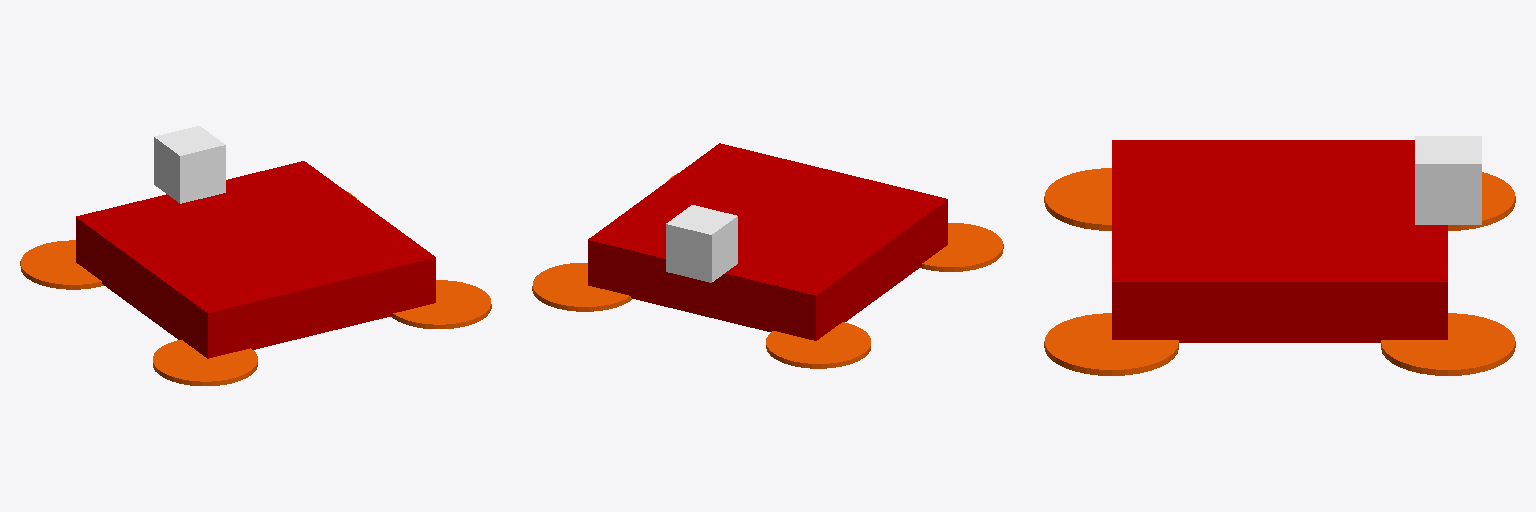
The robot description file, URDF, robot "car":
<?xml version="1.0" ?>
<!-- =================================================================================== -->
<!-- |    This document was autogenerated by xacro from car.xacro                      | -->
<!-- |    EDITING THIS FILE BY HAND IS NOT RECOMMENDED                                 | -->
<!-- =================================================================================== -->
<robot name="car">
  <material name="black">
    <color rgba="0.0 0.0 0.0 1.0"/>
  </material>
  <material name="blue">
    <color rgba="0.0 0.0 0.8 1.0"/>
  </material>
  <material name="green">
    <color rgba="0.0 0.8 0.0 1.0"/>
  </material>
  <material name="grey">
    <color rgba="0.2 0.2 0.2 1.0"/>
  </material>
  <material name="orange">
    <color rgba="1.0 0.4235294117647059 0.0392156862745098 1.0"/>
  </material>
  <material name="brown">
    <color rgba="0.8705882352941177 0.8117647058823529 0.7647058823529411 1.0"/>
  </material>
  <material name="red">
    <color rgba="0.8 0.0 0.0 1.0"/>
  </material>
  <material name="white">
    <color rgba="1.0 1.0 1.0 1.0"/>
  </material>
  <!-- #region XACRO_MACROS -->
  <!-- #endregion -->
  <!-- #endregion -->
  <!-- #endregion -->
  <!-- #endregion -->
  <!-- ROBOT BEGINS HERE -->
  <!-- ROBOT BEGINS HERE -->
  <!-- ROBOT BEGINS HERE -->
  <!-- #region BASE -->
  <link name="base_link">
    <visual>
      <origin rpy="0 0 0" xyz="0 0 0"/>
      <geometry>
        <box size="0.5 0.5 0.1"/>
      </geometry>
      <material name="red"/>
    </visual>
    <collision>
      <origin rpy="0 0 0" xyz="0 0 0"/>
      <geometry>
        <box size="0.5 0.5 0.1"/>
      </geometry>
    </collision>
    <inertial>
      <mass value="0.05"/>
      <inertia ixx="0.0010833333333333333" ixy="0" ixz="0" iyy="0.0020833333333333333" iyz="0" izz="0.0010833333333333333"/>
    </inertial>
  </link>
  <!-- #endregion -->
  <!-- #region WHEELS -->
  <!-- #region FRONT_LEFT_WHEEL -->
  <link name="front_left_wheel">
    <visual>
      <origin rpy="0 0 0" xyz="0.0051 0 0"/>
      <geometry>
        <cylinder length="0.01" radius="0.1"/>
      </geometry>
      <material name="orange"/>
    </visual>
    <collision>
      <origin rpy="0 0 0" xyz="0.0051 0 0"/>
      <geometry>
        <cylinder length="0.01" radius="0.01"/>
      </geometry>
    </collision>
    <inertial>
      <mass value="0.05"/>
      <inertia ixx="0.0001254166666666667" ixy="0" ixz="0" iyy="0.0001254166666666667" iyz="0" izz="0.00025000000000000006"/>
    </inertial>
  </link>
  <joint name="base_to_front_left_wheel" type="fixed">
    <parent link="base_link"/>
    <child link="front_left_wheel"/>
    <!-- joint of child is xyz away from parent -->
    <origin xyz="0.25 0.25 -0.05"/>
    <axis xyz="1 0 0"/>
  </joint>
  <!-- #endregion -->
  <!-- #region FRONT_RIGHT_WHEEL -->
  <link name="front_right_wheel">
    <visual>
      <origin rpy="0 0 0" xyz="0.0051 0 0"/>
      <geometry>
        <cylinder length="0.01" radius="0.1"/>
      </geometry>
      <material name="orange"/>
    </visual>
    <collision>
      <origin rpy="0 0 0" xyz="0.0051 0 0"/>
      <geometry>
        <cylinder length="0.01" radius="0.01"/>
      </geometry>
    </collision>
    <inertial>
      <mass value="0.05"/>
      <inertia ixx="0.0001254166666666667" ixy="0" ixz="0" iyy="0.0001254166666666667" iyz="0" izz="0.00025000000000000006"/>
    </inertial>
  </link>
  <joint name="base_to_front_right_wheel" type="fixed">
    <parent link="base_link"/>
    <child link="front_right_wheel"/>
    <!-- joint of child is xyz away from parent -->
    <origin xyz="0.25 -0.25 -0.05"/>
    <axis xyz="1 0 0"/>
  </joint>
  <!-- #endregion -->
  <!-- #region BACK_LEFT_WHEEL -->
  <link name="back_left_wheel">
    <visual>
      <origin rpy="0 0 0" xyz="-0.0051 0 0"/>
      <geometry>
        <cylinder length="0.01" radius="0.1"/>
      </geometry>
      <material name="orange"/>
    </visual>
    <collision>
      <origin rpy="0 0 0" xyz="-0.0051 0 0"/>
      <geometry>
        <cylinder length="0.01" radius="0.01"/>
      </geometry>
    </collision>
    <inertial>
      <mass value="0.05"/>
      <inertia ixx="0.0001254166666666667" ixy="0" ixz="0" iyy="0.0001254166666666667" iyz="0" izz="0.00025000000000000006"/>
    </inertial>
  </link>
  <joint name="base_to_back_left_wheel" type="fixed">
    <parent link="base_link"/>
    <child link="back_left_wheel"/>
    <!-- joint of child is xyz away from parent -->
    <origin xyz="-0.25 0.25 -0.05"/>
    <axis xyz="1 0 0"/>
  </joint>
  <!-- #endregion -->
  <!-- #region BACK_RIGHT_WHEEL -->
  <link name="back_right_wheel">
    <visual>
      <origin rpy="0 0 0" xyz="-0.0051 0 0"/>
      <geometry>
        <cylinder length="0.01" radius="0.1"/>
      </geometry>
      <material name="orange"/>
    </visual>
    <collision>
      <origin rpy="0 0 0" xyz="-0.0051 0 0"/>
      <geometry>
        <cylinder length="0.01" radius="0.01"/>
      </geometry>
    </collision>
    <inertial>
      <mass value="0.05"/>
      <inertia ixx="0.0001254166666666667" ixy="0" ixz="0" iyy="0.0001254166666666667" iyz="0" izz="0.00025000000000000006"/>
    </inertial>
  </link>
  <joint name="base_to_back_right_wheel" type="fixed">
    <parent link="base_link"/>
    <child link="back_right_wheel"/>
    <!-- joint of child is xyz away from parent -->
    <origin xyz="-0.25 -0.25 -0.05"/>
    <axis xyz="1 0 0"/>
  </joint>
  <!-- #endregion -->
  <!-- #endregion -->
  <!-- #region CAMERA -->
  <link name="camera">
    <visual>
      <origin rpy="0 0 0" xyz="0 0 0.05"/>
      <geometry>
        <box size="0.1 0.1 0.1"/>
      </geometry>
      <material name="white"/>
    </visual>
    <collision>
      <origin rpy="0 0 0" xyz="0 0 0.05"/>
      <geometry>
        <box size="0.1 0.1 0.1"/>
      </geometry>
    </collision>
    <inertial>
      <mass value="0"/>
      <inertia ixx="0.0" ixy="0" ixz="0" iyy="0.0" iyz="0" izz="0.0"/>
    </inertial>
  </link>
  <joint name="base_to_camera" type="fixed">
    <axis xyz="0 1 0"/>
    <origin rpy="0 0 1.57" xyz="0 0.25 0.05"/>
    <parent link="base_link"/>
    <child link="camera"/>
  </joint>
  <!-- #endregion -->
</robot>

--- Render facts (derived) ---
3 views of the same robot in one strip: view 1: azimuth 30°, elevation 25°; view 2: azimuth 150°, elevation 25°; view 3: azimuth 270°, elevation 25° (orthographic).
Robot: car — 6 links, 5 joints (5 fixed); root link base_link; default pose: all joints at 0.
Visible links, largest first — view 1: base_link, camera, back_right_wheel, front_right_wheel, back_left_wheel; view 2: base_link, camera, back_left_wheel, front_left_wheel, back_right_wheel; view 3: base_link, camera, front_left_wheel, front_right_wheel, back_right_wheel, back_left_wheel.
Link boxes in pixels (x1=…): base_link: x1=76, y1=161, x2=435, y2=358; camera: x1=154, y1=126, x2=225, y2=203; back_right_wheel: x1=153, y1=340, x2=257, y2=385; front_right_wheel: x1=391, y1=280, x2=491, y2=328; back_left_wheel: x1=20, y1=240, x2=103, y2=289; base_link: x1=588, y1=143, x2=947, y2=340; camera: x1=666, y1=205, x2=737, y2=282; back_left_wheel: x1=766, y1=322, x2=870, y2=368; front_left_wheel: x1=532, y1=263, x2=631, y2=311; back_right_wheel: x1=920, y1=223, x2=1003, y2=271; base_link: x1=1112, y1=140, x2=1447, y2=342; camera: x1=1415, y1=136, x2=1481, y2=224; front_left_wheel: x1=1381, y1=313, x2=1515, y2=375; front_right_wheel: x1=1044, y1=313, x2=1178, y2=375; back_right_wheel: x1=1044, y1=168, x2=1111, y2=230; back_left_wheel: x1=1448, y1=172, x2=1515, y2=230.
Size in the robot's own frame: 0.7102 by 0.7 by 0.205 metres.
Geometry: primitives only (box / cylinder / sphere), no mesh files.